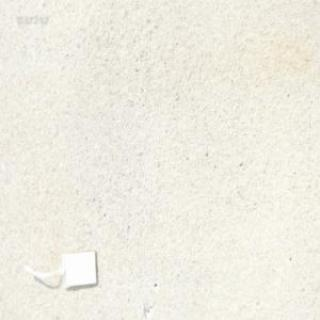LuggageTagtrack_idkeyframe: (20, 246, 99, 290)
